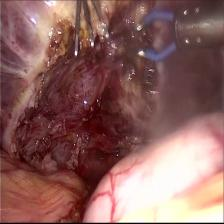Bipolar: (109, 6, 224, 69)
